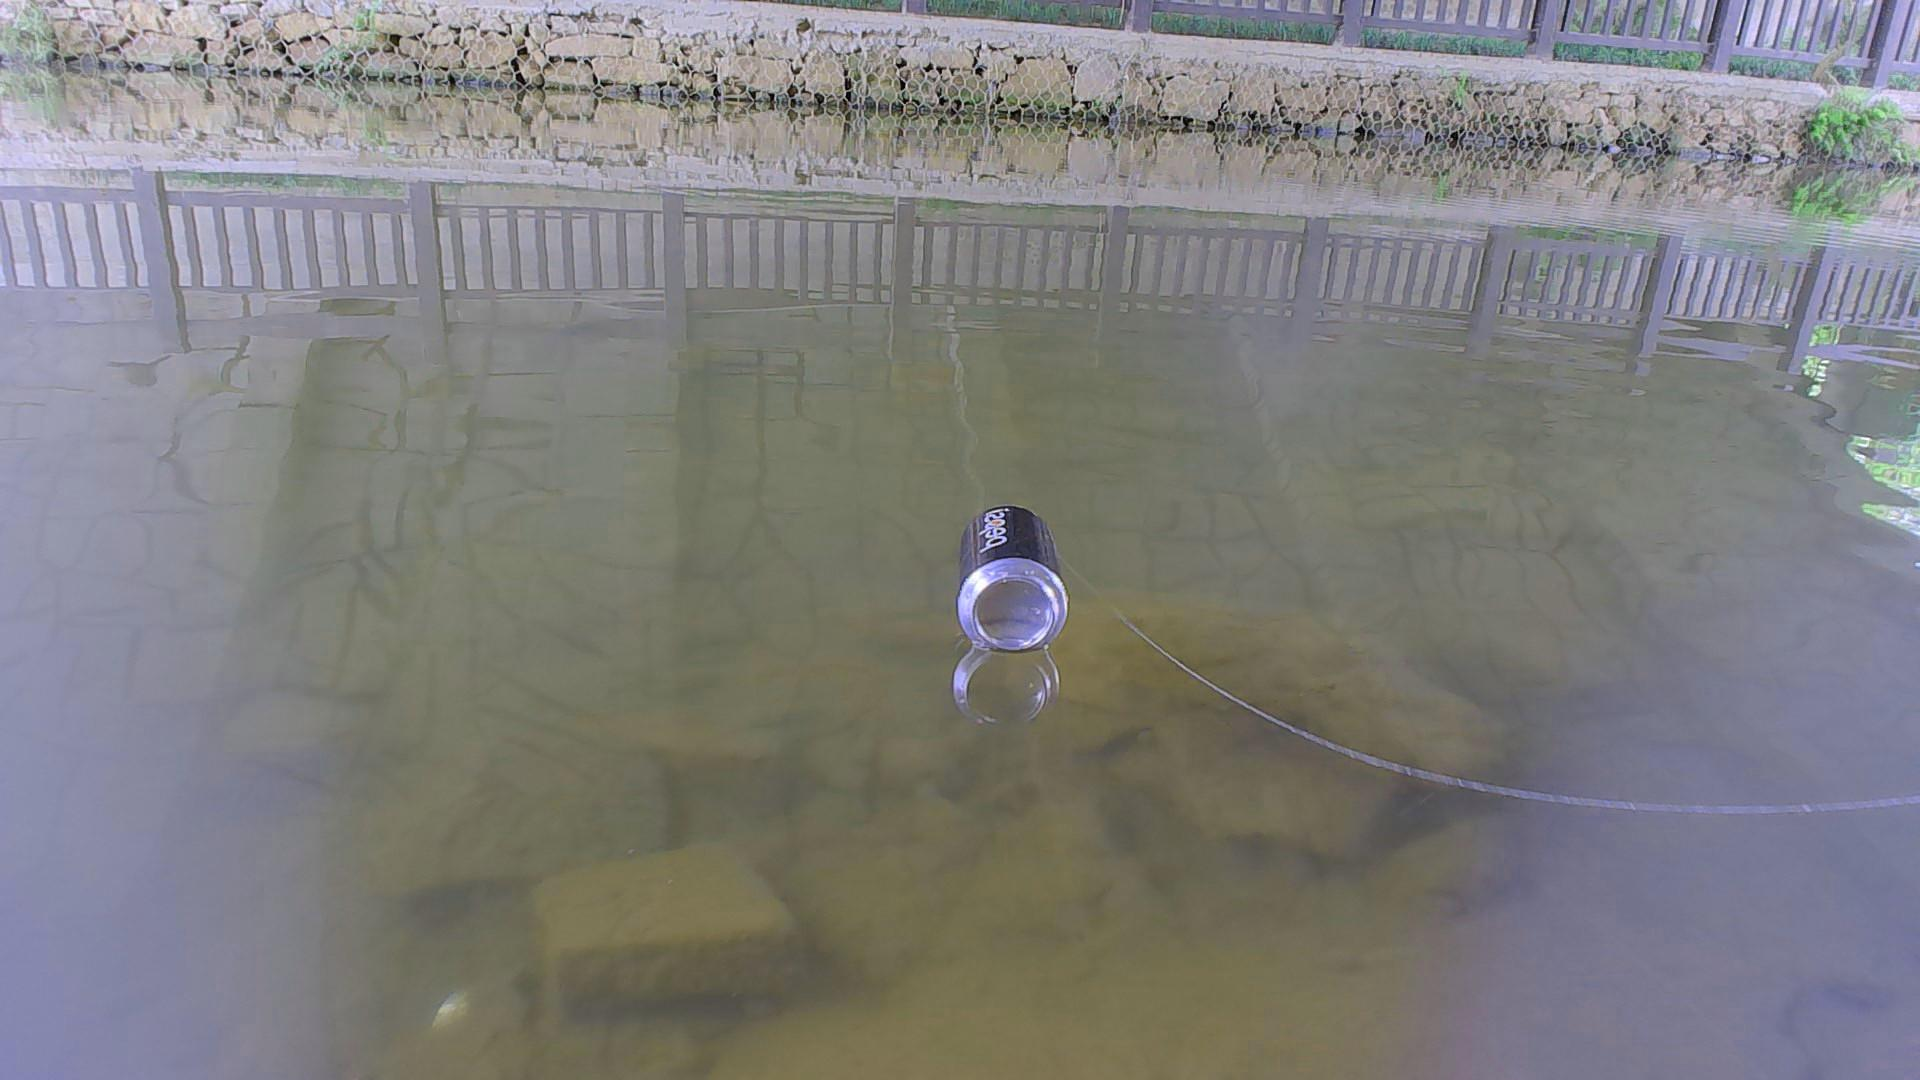Metal: (953, 487, 1075, 657)
